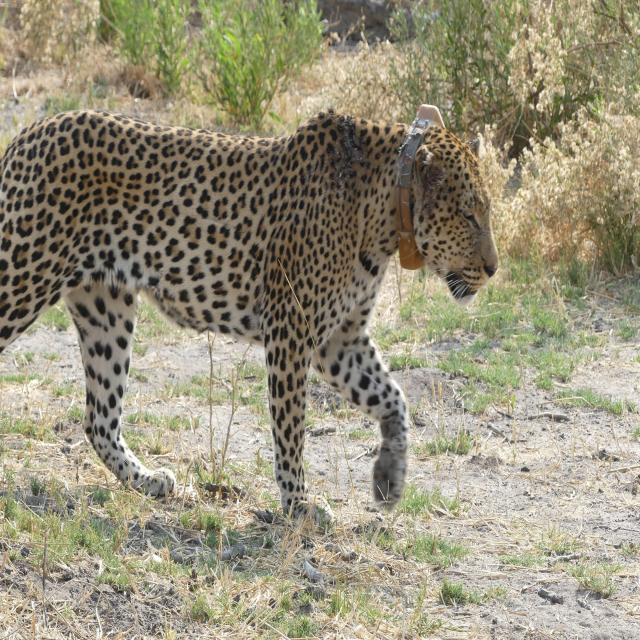Leopard: (0, 94, 510, 531)
